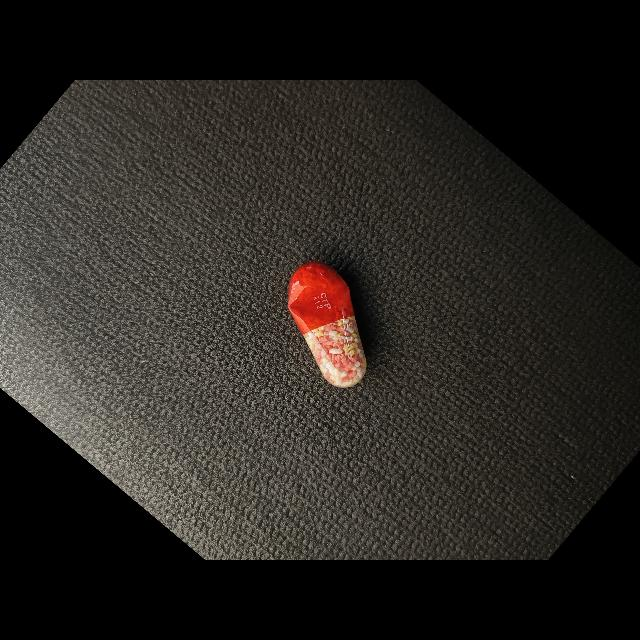Defective Capsule: (288, 262, 366, 374)
